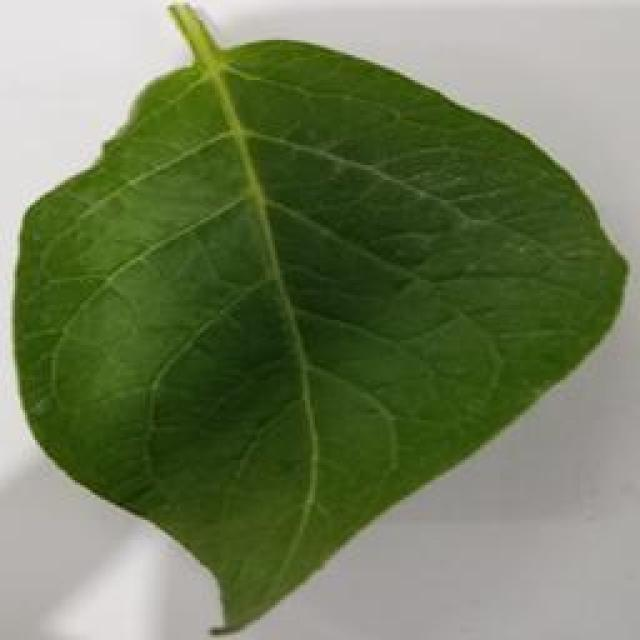Potato_Healthy: (14, 9, 616, 633)
